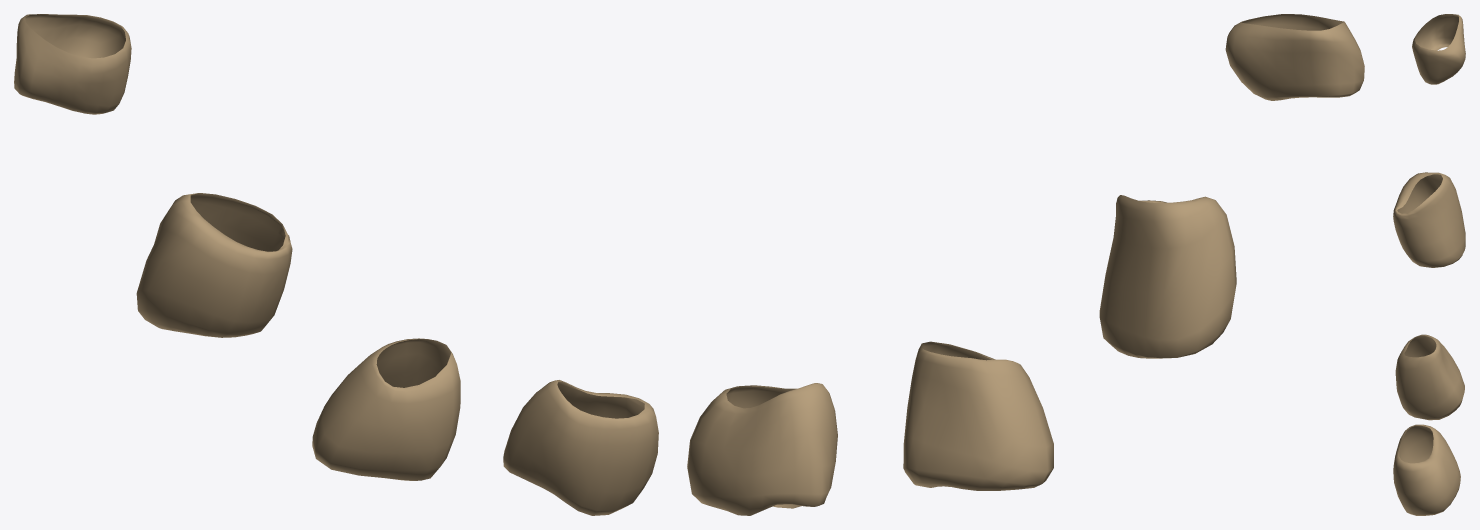
3 renders of one model, left to right at view 1: azimuth 30°, elevation 25°; view 2: azimuth 150°, elevation 25°; view 3: azimuth 270°, elevation 25°, orthographic. The views are drawn at different scales.
Visible parts, largest first — view 1: 右侧足远侧趾间关节囊; view 2: 右侧足远侧趾间关节囊; view 3: 右侧足远侧趾间关节囊.
Part boxes in pixels (left/top/right/bottom): 右侧足远侧趾间关节囊: left=14, top=14, right=658, bottom=515; 右侧足远侧趾间关节囊: left=687, top=14, right=1364, bottom=515; 右侧足远侧趾间关节囊: left=1393, top=14, right=1465, bottom=515.
Bounding box in the file's own units: 0.0724 × 0.0665 × 0.0128.
